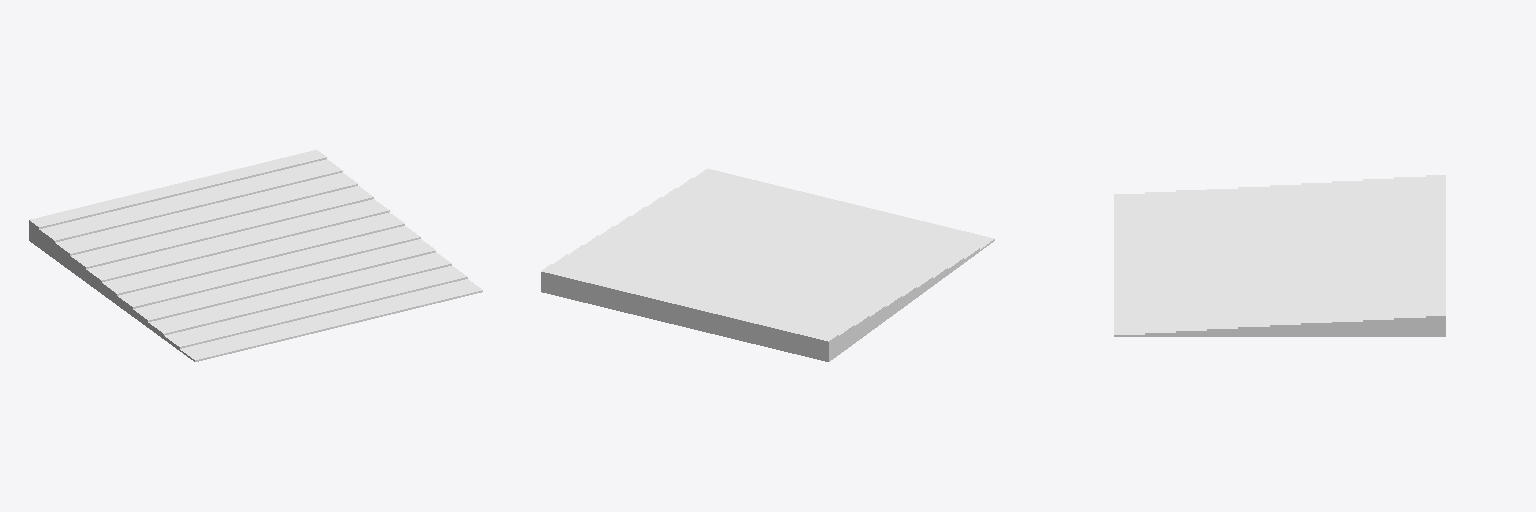
File: roof1-1-lod2.obj
The picture shows the model from 3 angles: view 1: azimuth 30°, elevation 25°; view 2: azimuth 150°, elevation 25°; view 3: azimuth 270°, elevation 25°; orthographic projection.
Visible parts, largest first — view 1: lod2; view 2: lod2; view 3: lod2.
Boxes of the visible parts, x1=… form: lod2: x1=29, y1=150, x2=482, y2=361; lod2: x1=541, y1=169, x2=994, y2=361; lod2: x1=1114, y1=175, x2=1445, y2=336.
Size of the model in its own units: 16 by 1.1 by 16.